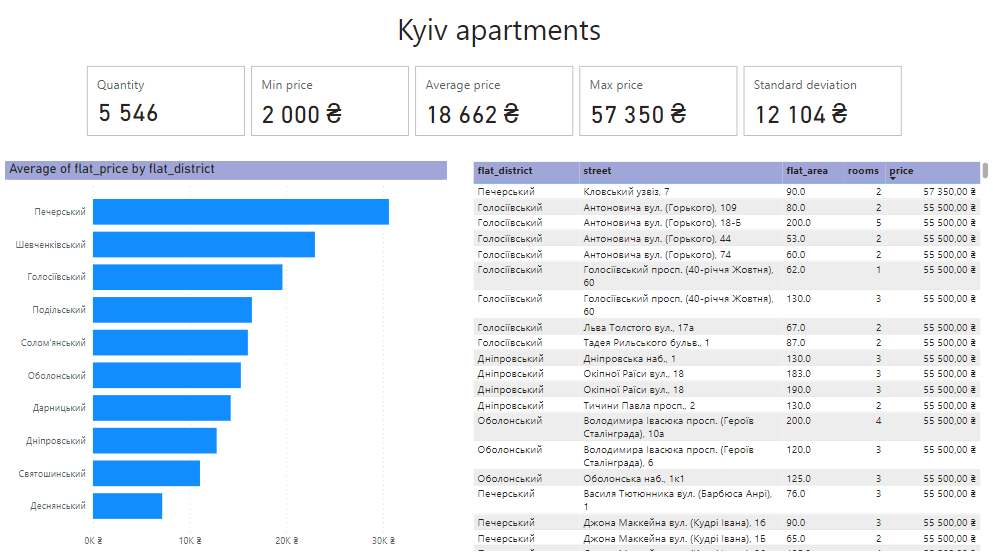

What the dashboard file says about the page in this screenshot:
{"tool":"powerbi","page":{"name":"Page 1","canvas":[1280,720],"ordinal":0},"visuals":[{"type":"textbox","box":[10.3,12.9,1269.7,64.3],"z":0},{"type":"cardVisual","fields":{"Data":["flats.Column1","flats.flat_price","Sum(flats.flat_price)1","Sum(flats.flat_price)2","Sum(flats.flat_price)3"]},"box":[110.5,86.1,1057.7,100.2],"z":1000},{"type":"clusteredBarChart","fields":{"Category":["flats.flat_district"],"Y":["flats.flat_price"]},"box":[10.3,213.3,568,506.3],"z":2000},{"type":"tableEx","fields":{"Values":["flats.flat_district","flats.flat_street","flats.flat_area","flats.flat_room_count","flats.flat_price"]},"box":[606.6,209.5,673.4,510.2],"z":3000}]}

Visuals, with their boxes in screenshot pixels (x1, y1, x2, y2), scaled from the page's 1280x720 canvas onto the 993x555 screenshot:
textbox: {"left": 8, "top": 10, "right": 992, "bottom": 60}
cardVisual - flats.Column1 x flats.flat_price: {"left": 86, "top": 66, "right": 906, "bottom": 144}
clusteredBarChart - flats.flat_district x flats.flat_price: {"left": 8, "top": 164, "right": 449, "bottom": 554}
tableEx - flats.flat_district x flats.flat_street: {"left": 471, "top": 161, "right": 992, "bottom": 554}
